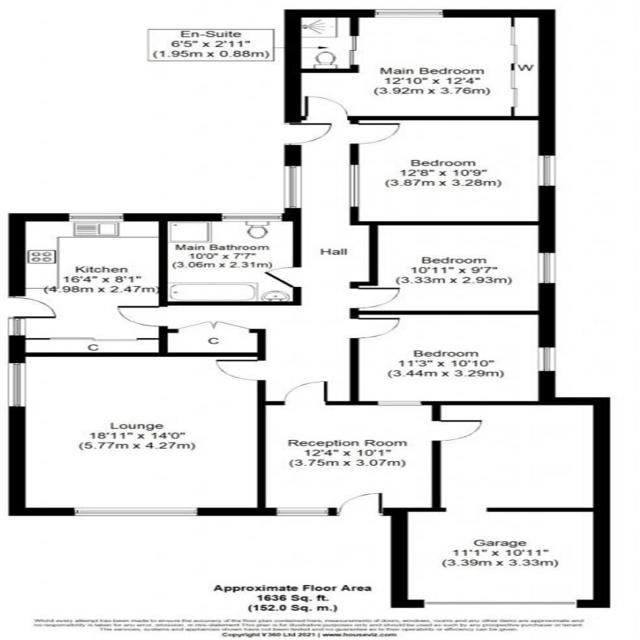DOOR: (333, 491, 387, 517), (212, 358, 267, 383), (348, 122, 404, 146), (430, 419, 485, 443), (348, 287, 405, 310), (348, 317, 404, 340), (281, 380, 330, 406), (114, 305, 169, 328), (303, 95, 351, 121), (281, 122, 335, 145), (7, 296, 60, 319), (260, 266, 303, 290)
ROOM: (7, 352, 267, 516), (256, 380, 484, 516), (283, 9, 557, 120), (7, 213, 168, 357), (348, 116, 557, 225), (348, 310, 557, 406), (349, 221, 556, 315)
WINDOW: (69, 506, 203, 517), (281, 165, 304, 210), (7, 362, 28, 408), (535, 155, 558, 188), (219, 212, 286, 223), (535, 252, 557, 285), (373, 9, 445, 19), (66, 212, 126, 223), (348, 164, 362, 208), (535, 346, 558, 372), (273, 507, 331, 517), (6, 317, 28, 337), (375, 400, 425, 407)
